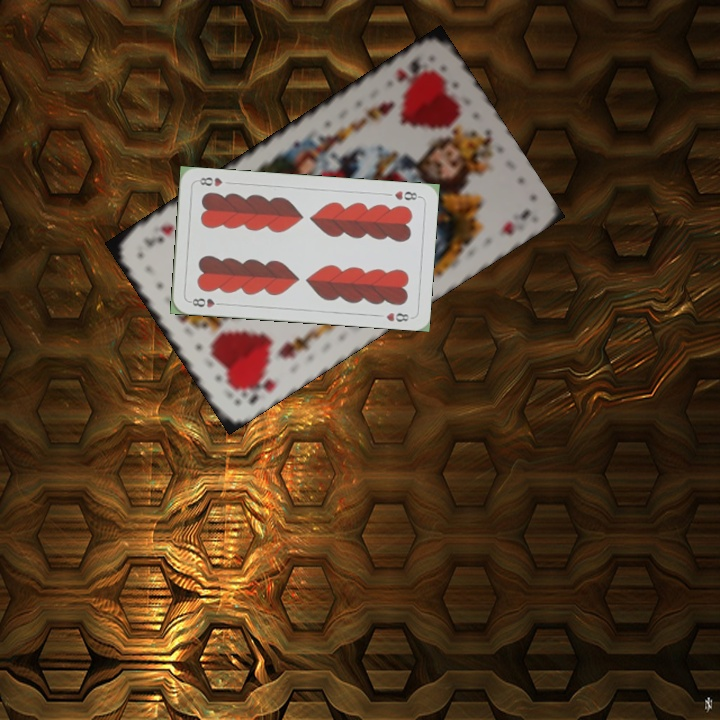H8: (185, 294, 226, 310), (390, 187, 423, 203)
HK: (232, 367, 279, 407), (392, 53, 424, 86)
